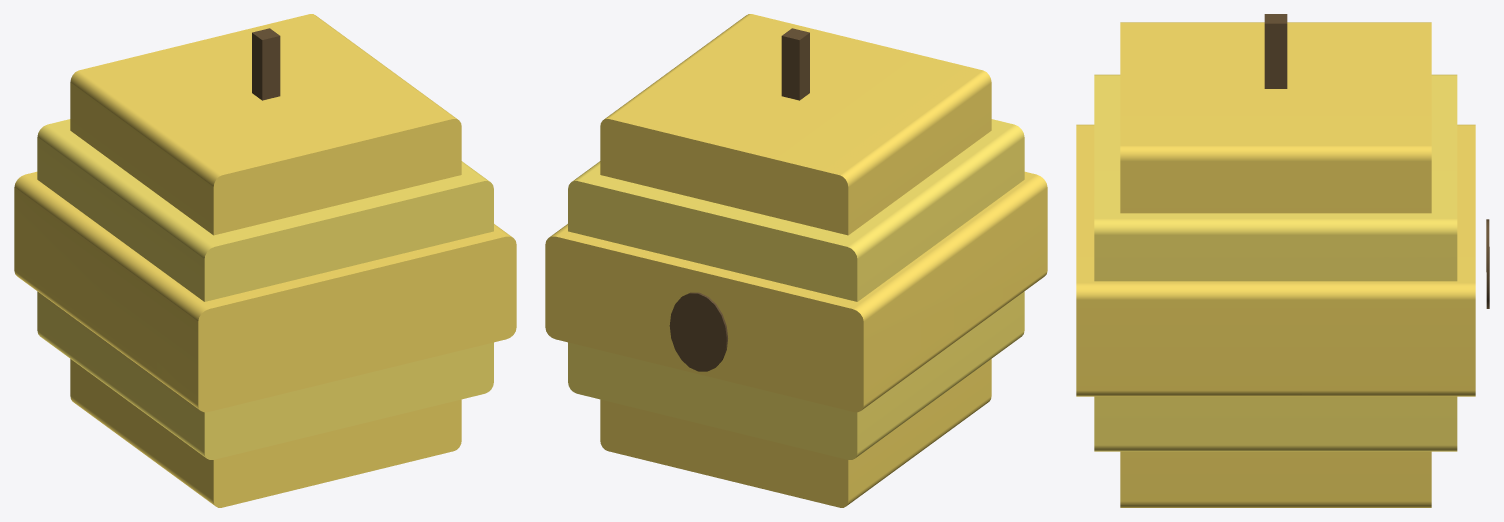
File: BeeHIve.fbx
The picture shows the model from 3 angles, left to right: view 1: azimuth 30°, elevation 25°; view 2: azimuth 150°, elevation 25°; view 3: azimuth 270°, elevation 25°; orthographic projection. The views are drawn at different scales.
Visible parts, largest first — view 1: pCube4, pCube6, pCube5, pCube3, pCube2, pCube7; view 2: pCube6, pCube4, pCube5, pCube3, pCube2, pCylinder1, pCube7; view 3: pCube6, pCube4, pCube5, pCube3, pCube2, pCube7.
Boxes of the visible parts, x1,y1,x2,y2 form: pCube4: (14,171,516,412); pCube6: (70,14,461,235); pCube5: (37,119,493,301); pCube3: (37,291,493,459); pCube2: (70,359,461,507); pCube7: (252,28,280,100); pCube6: (600,14,991,235); pCube4: (545,171,1047,412); pCube5: (568,119,1024,301); pCube3: (568,291,1024,459); pCube2: (600,359,991,507); pCylinder1: (669,292,727,371); pCube7: (781,28,809,100); pCube6: (1120,22,1431,213); pCube4: (1076,124,1475,396); pCube5: (1094,74,1457,281); pCube3: (1094,396,1457,451); pCube2: (1120,451,1431,507); pCube7: (1264,14,1287,88).
Size of the model in its own units: 1.1 by 1.3 by 1.14.
